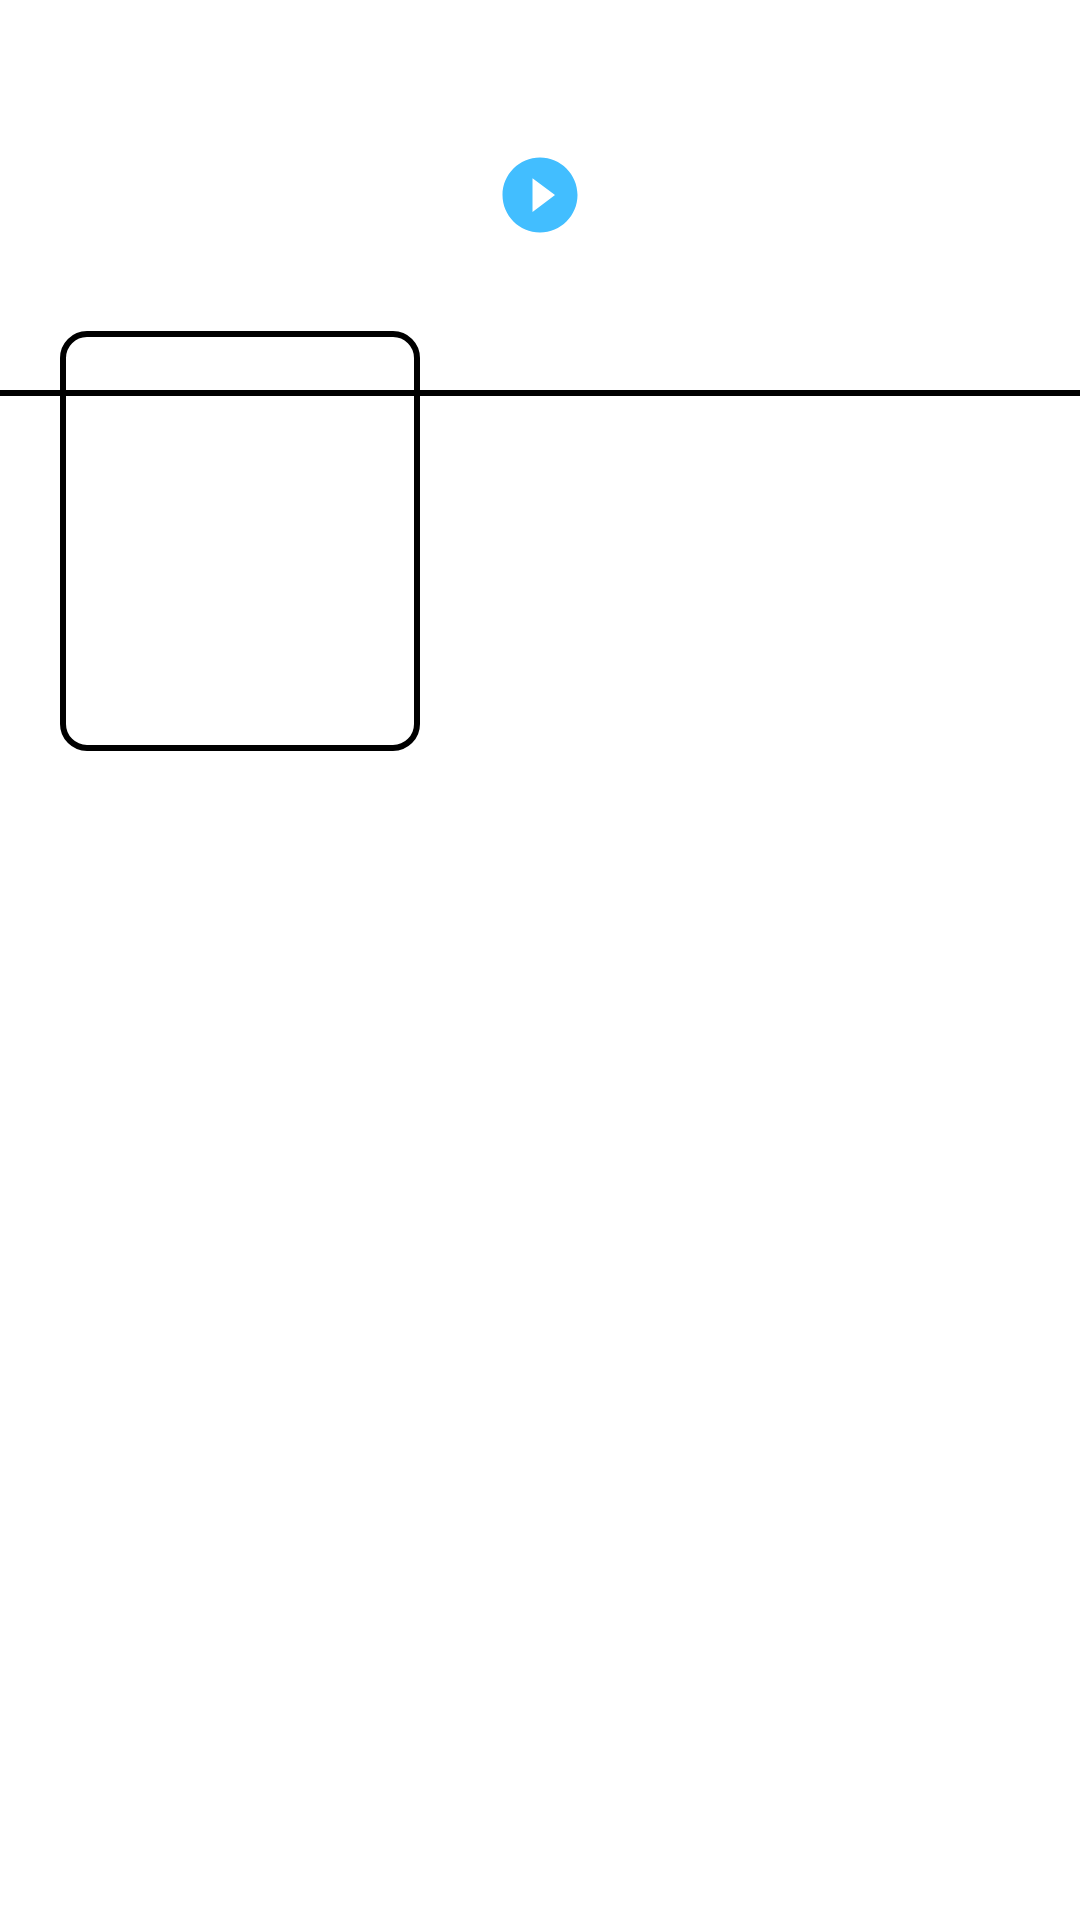

Locate icon controls on the screen. Image size 1080px x 1920px, boxes as (x1, y1, x2, y2).
Play button: (502, 157, 578, 233)
